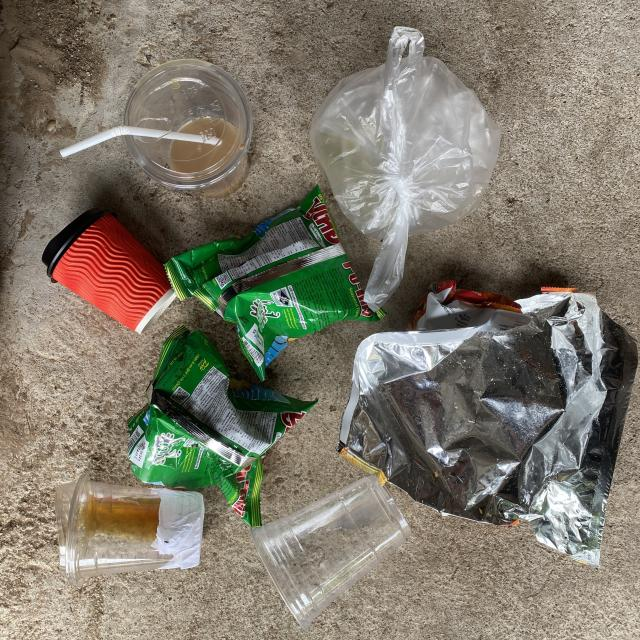Single-layer Plastic: (310, 28, 500, 310)
